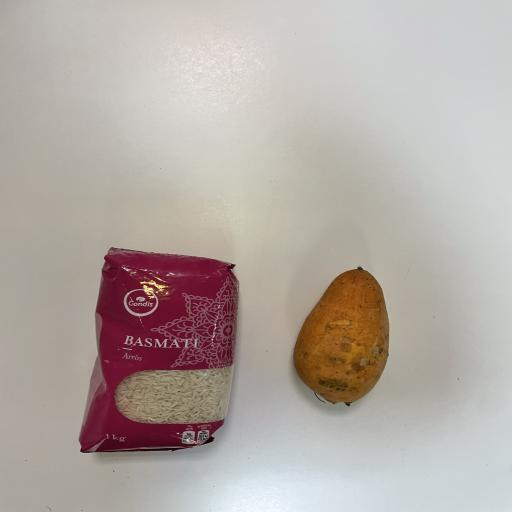rice: (54, 220, 260, 478)
sweet_potato: (279, 237, 425, 434)
